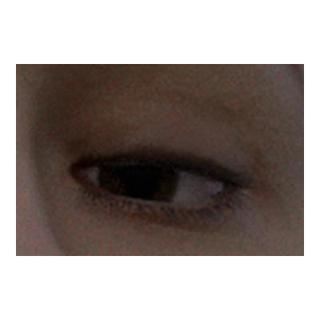pupil: (120, 161, 155, 196)
